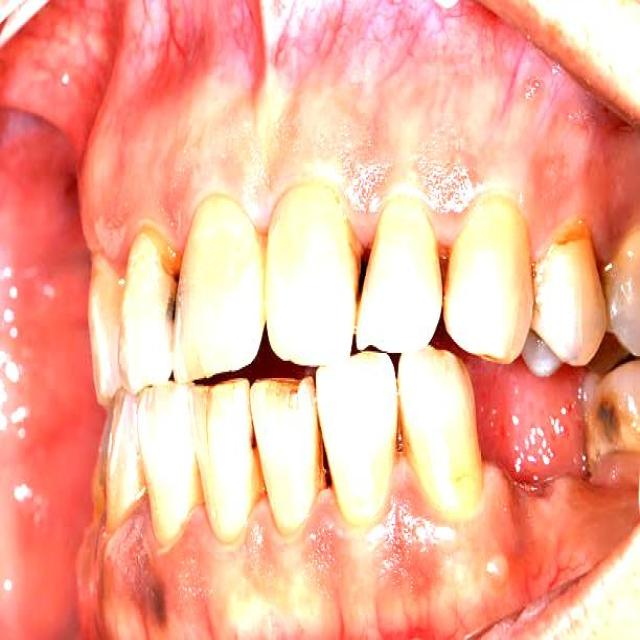caries: (148, 257, 200, 349), (579, 379, 638, 460), (254, 361, 318, 420), (542, 210, 597, 265)
